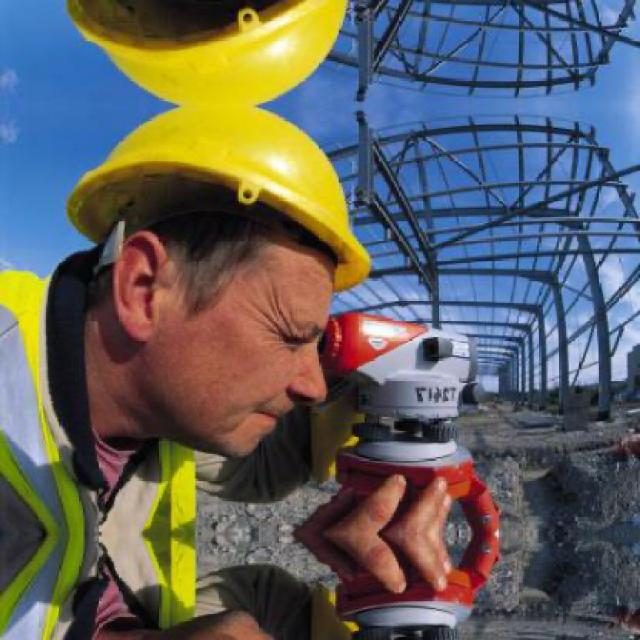helmet: (60, 106, 383, 462), (59, 0, 383, 105)
